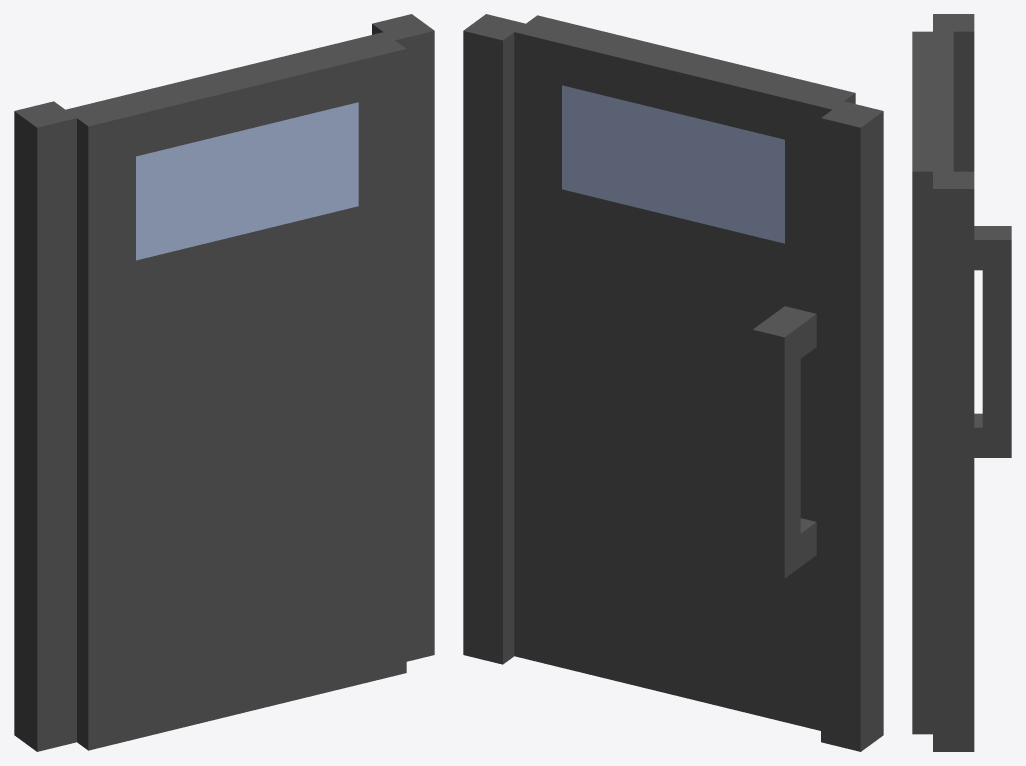
File: shield.fbx
The picture shows the model from 3 angles, left to right: view 1: azimuth 30°, elevation 25°; view 2: azimuth 150°, elevation 25°; view 3: azimuth 270°, elevation 25°; orthographic projection. The views are drawn at different scales.
Visible parts, largest first — view 1: shield_base, shield_glass; view 2: shield_base, shield_glass; view 3: shield_base.
Part boxes in pixels (x1,y1,x2,y2): shield_base: (14,14,434,751); shield_glass: (136,102,358,260); shield_base: (463,14,883,751); shield_glass: (562,85,784,243); shield_base: (912,14,1011,751).
Size of the model in its own units: 100 by 150 by 24.
